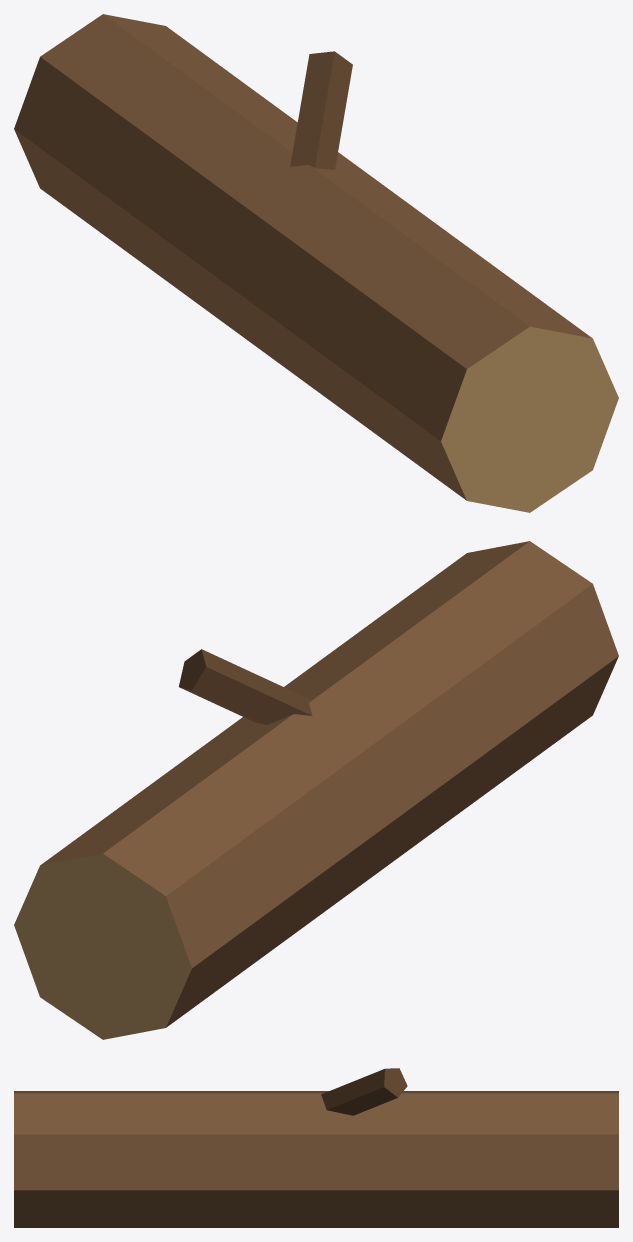
The model's file is SM_FP_Item_Legna.glb.
3 renders of one model, top to bottom at view 1: azimuth 30°, elevation 25°; view 2: azimuth 150°, elevation 25°; view 3: azimuth 270°, elevation 25°, orthographic. The views are drawn at different scales.
Visible parts, largest first — view 1: SM_FP_Item_Legna; view 2: SM_FP_Item_Legna; view 3: SM_FP_Item_Legna.
Part boxes in pixels (<box>): SM_FP_Item_Legna: <box>14,14,618,512</box>; SM_FP_Item_Legna: <box>14,541,618,1039</box>; SM_FP_Item_Legna: <box>14,1068,618,1227</box>.
Size of the model in its own units: 0.13 by 0.177 by 0.54.
1 material, 1 textured.
